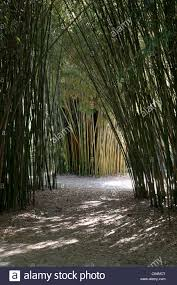bamboo: (57, 2, 128, 176), (126, 1, 176, 216), (2, 1, 41, 215)
